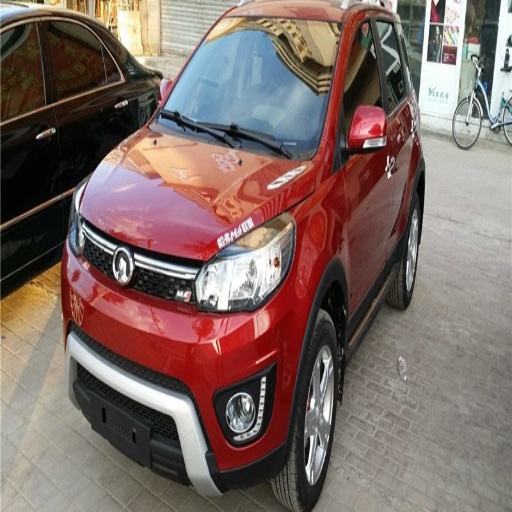front_bumper: (65, 223, 310, 487)
front_glass: (160, 16, 340, 158)
front_left_door: (337, 6, 385, 316)
